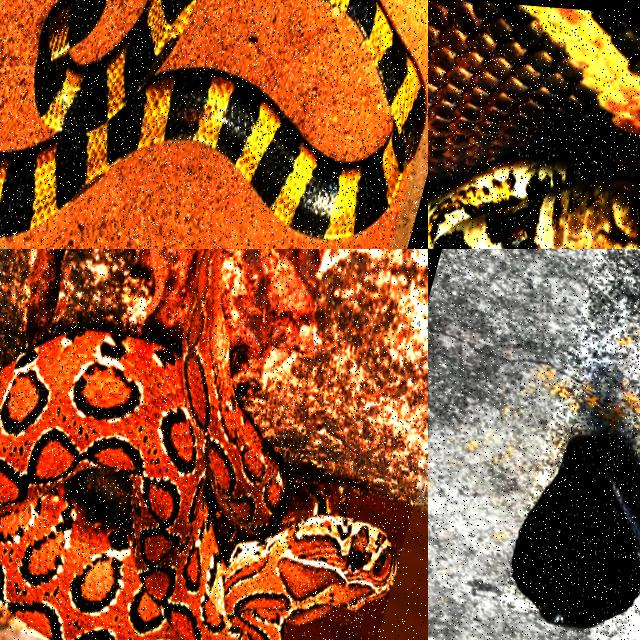Bungarus fasciatus: (0, 0, 425, 238)
Daboia siamensis: (0, 249, 397, 639)
Naja siamensis: (513, 436, 639, 628)
Python bivittatus: (428, 0, 639, 248)
snake: (0, 249, 397, 639), (0, 0, 425, 238), (428, 0, 639, 248), (513, 436, 639, 628)
